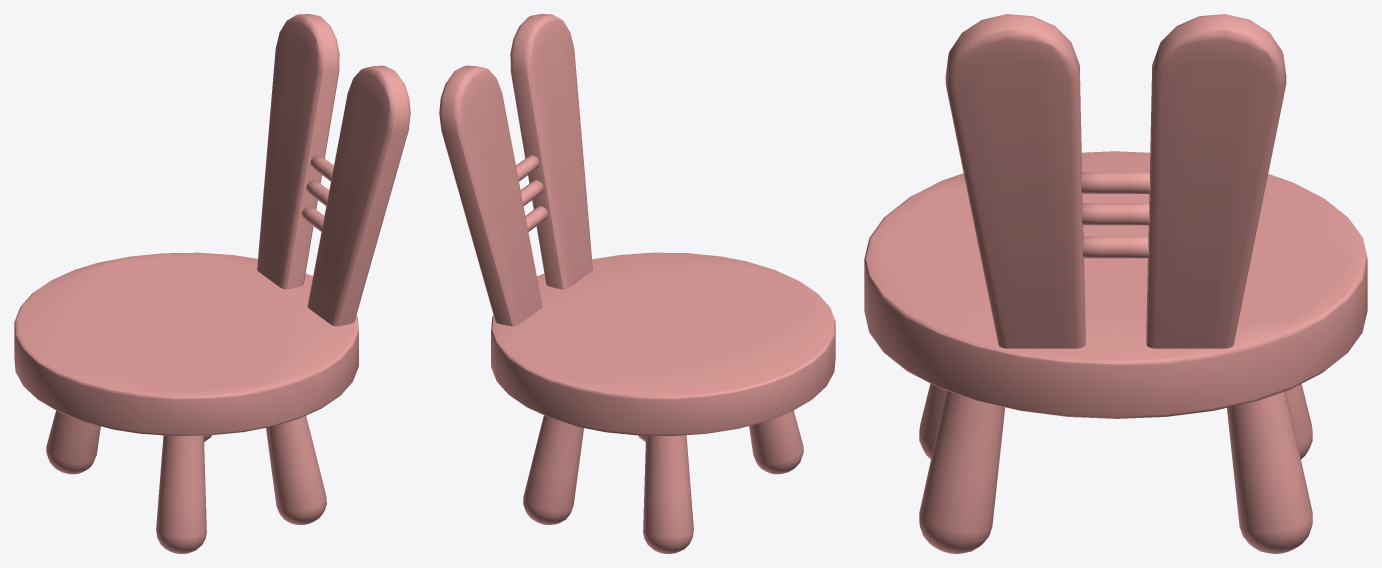
File: bunny_chair.glb
3 views of the same model, side by side, from view 1: azimuth 30°, elevation 25°; view 2: azimuth 150°, elevation 25°; view 3: azimuth 270°, elevation 25° (orthographic). The views are drawn at different scales.
Visible parts, largest first — view 1: Cylinder.003, Cylinder.004, Cylinder.006, Cylinder.005; view 2: Cylinder.003, Cylinder.004, Cylinder.006, Cylinder.005; view 3: Cylinder.004, Cylinder.003, Cylinder.006, Cylinder.005.
Part boxes in pixels (bbox=[...]): Cylinder.003: bbox=[14, 252, 358, 435]; Cylinder.004: bbox=[257, 14, 410, 326]; Cylinder.006: bbox=[46, 410, 326, 553]; Cylinder.005: bbox=[301, 155, 333, 231]; Cylinder.003: bbox=[491, 252, 835, 435]; Cylinder.004: bbox=[439, 14, 592, 326]; Cylinder.006: bbox=[523, 410, 803, 553]; Cylinder.005: bbox=[516, 155, 548, 231]; Cylinder.004: bbox=[945, 14, 1286, 348]; Cylinder.003: bbox=[864, 151, 1367, 418]; Cylinder.006: bbox=[919, 383, 1312, 553]; Cylinder.005: bbox=[1081, 172, 1150, 258].
Size of the model in its own units: 4.79 by 5.88 by 4.44.
